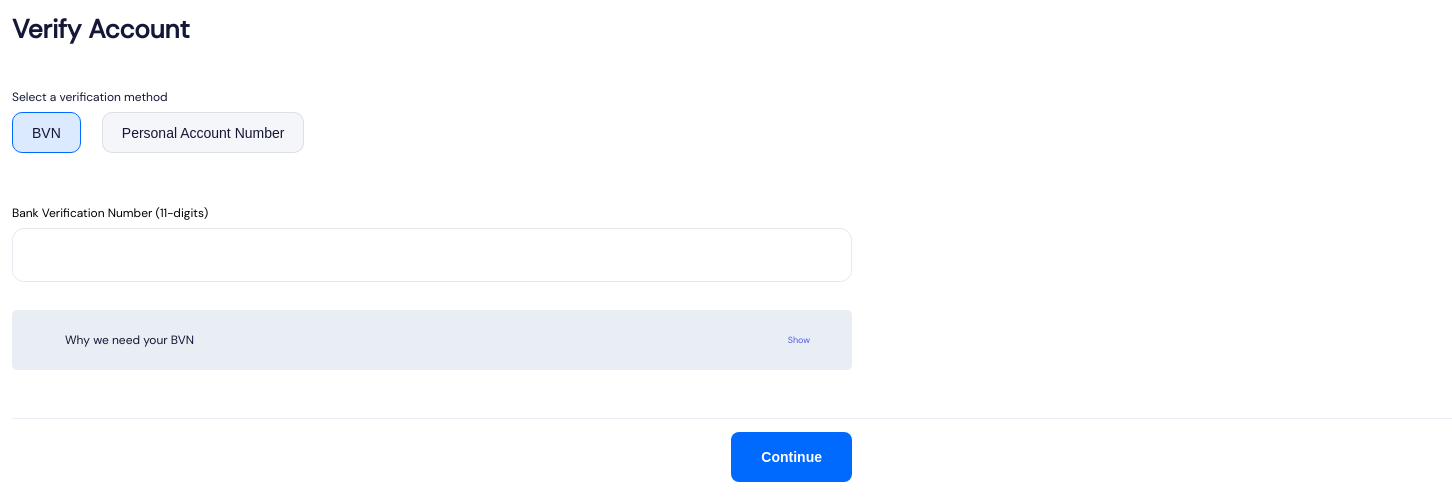
Steps › Step One › clicking the BVN button renders the bvn option
Click the button "Personal Account Number": coordinates (203, 132) [102, 112, 304, 153]
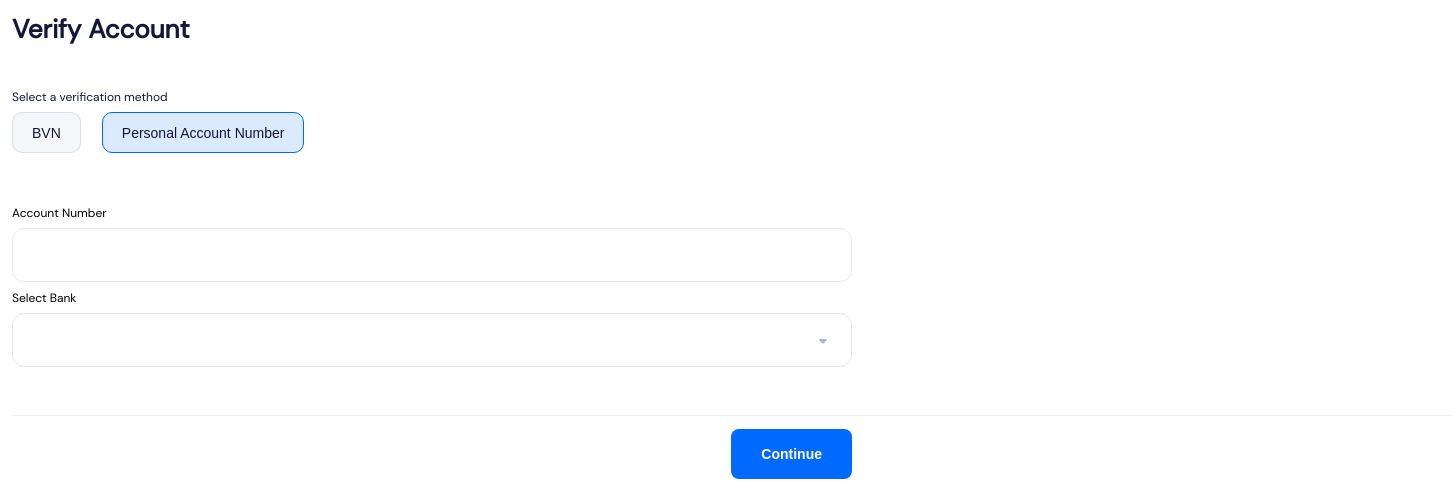
Click the button "BVN": coordinates (46, 132) [12, 112, 81, 153]
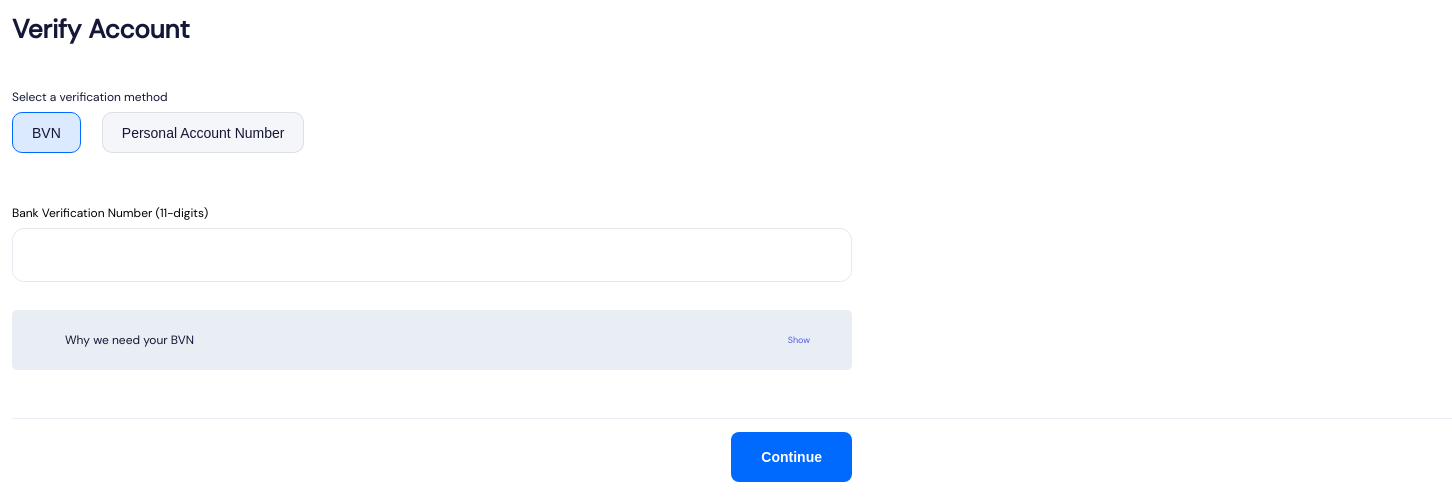
Expected: the element with test id "bvn-option" is shown, [12, 205, 852, 370]
